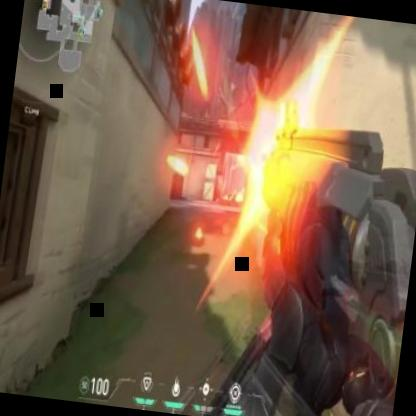enemy: (214, 180, 224, 203)
enemy_head: (218, 180, 222, 186)
